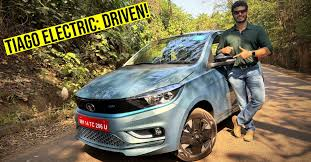Tiago: (66, 28, 220, 162)
